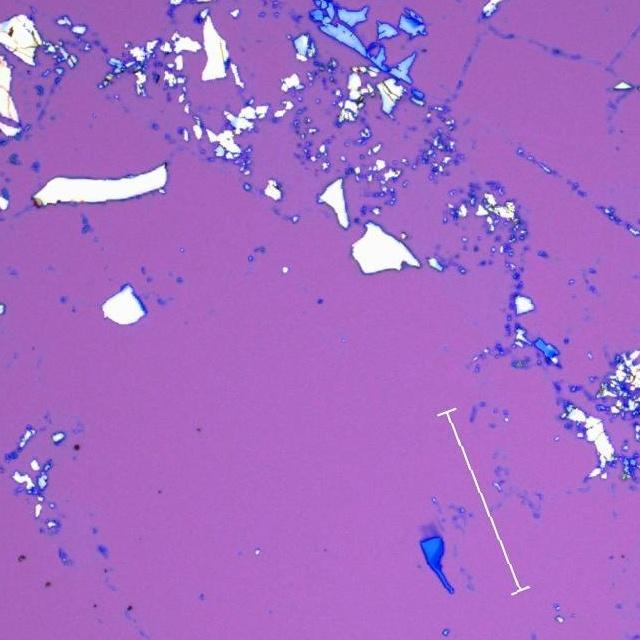monolayer-eWW4: (418, 522, 442, 538)
